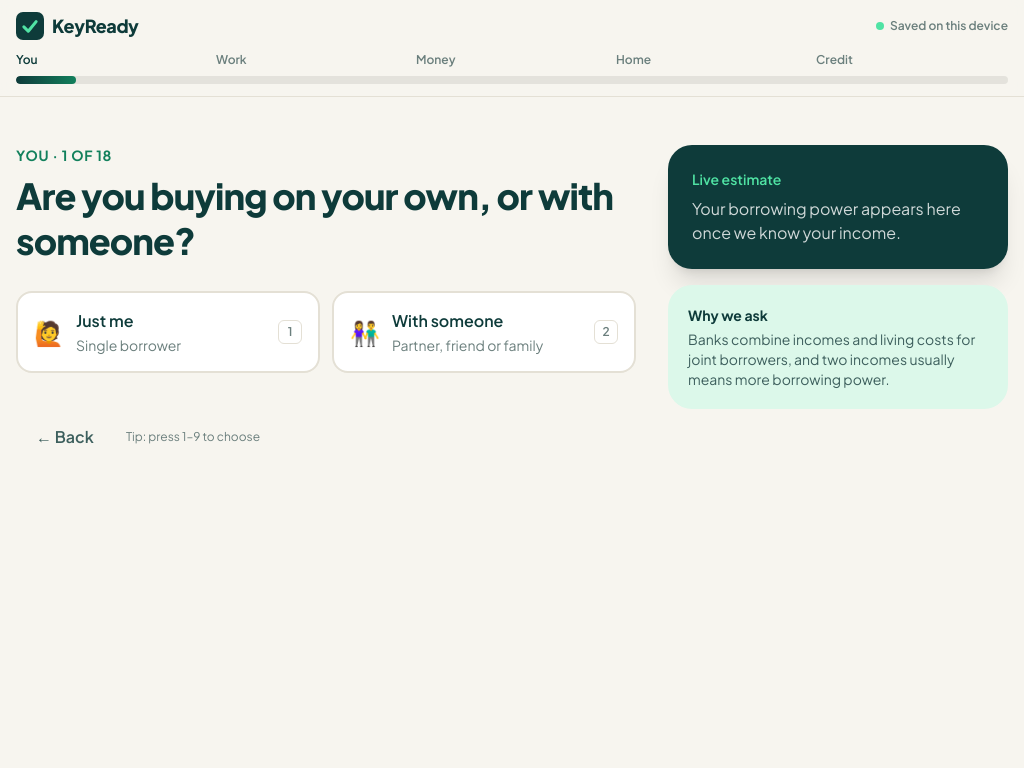
Check page › branches into co-borrower questions when buying together
Click the radio button labelled "👫 With someone Partner, friend or family 2" at (484, 332), box [332,291,636,373]
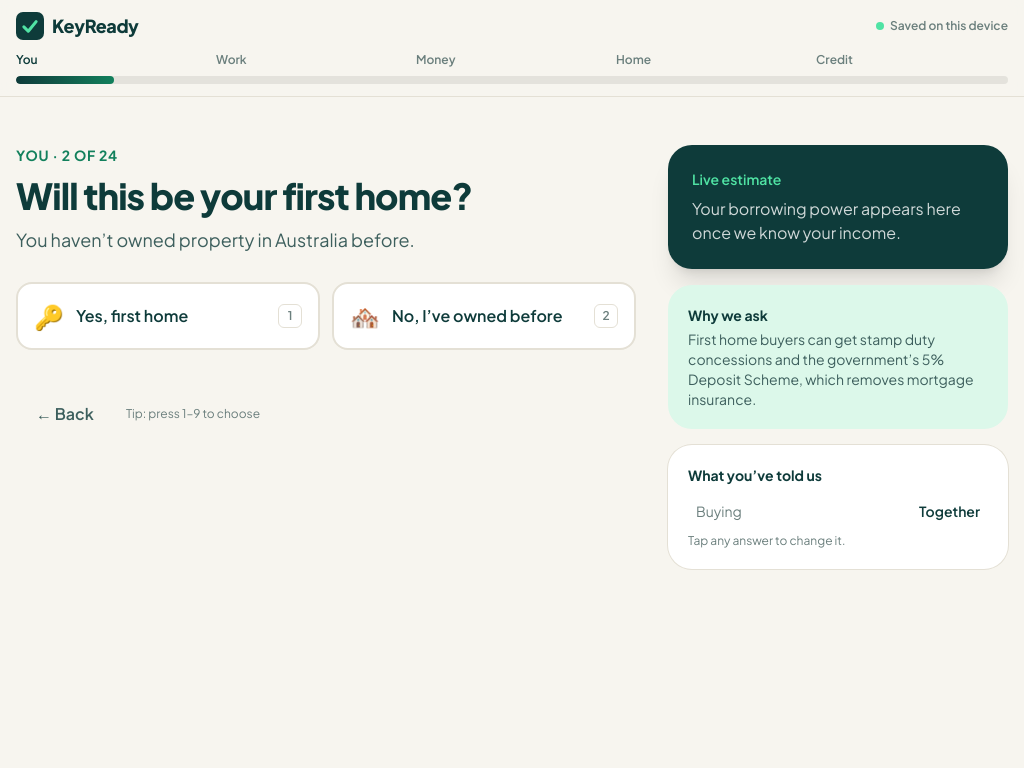
Check: the heading "Will this be your first home?" is shown, box [16,173,472,218]
